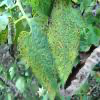Tomato Septoria leaf spot: (12, 13, 59, 98), (47, 1, 85, 92)
